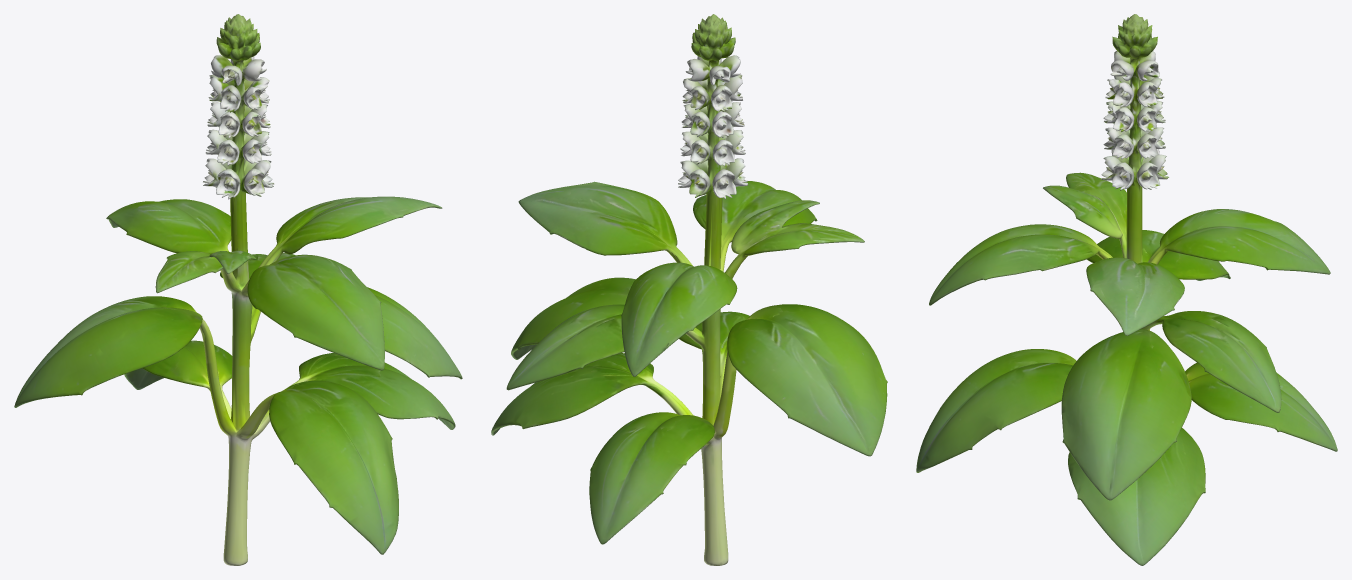
Rendered from luolei.glb.
3 views of the same model, side by side, from view 1: azimuth 30°, elevation 25°; view 2: azimuth 150°, elevation 25°; view 3: azimuth 270°, elevation 25° (orthographic). The views are drawn at different scales.
Parts seen in each view (by area): view 1: node_0; view 2: node_0; view 3: node_0.
Boxes of the visible parts, left/top/right/bottom form: node_0: left=14, top=14, right=462, bottom=565; node_0: left=491, top=14, right=887, bottom=565; node_0: left=916, top=14, right=1337, bottom=565.
Bounding box in the file's own units: 0.8803 × 1.12 × 0.8217.
1 material, 1 textured.
